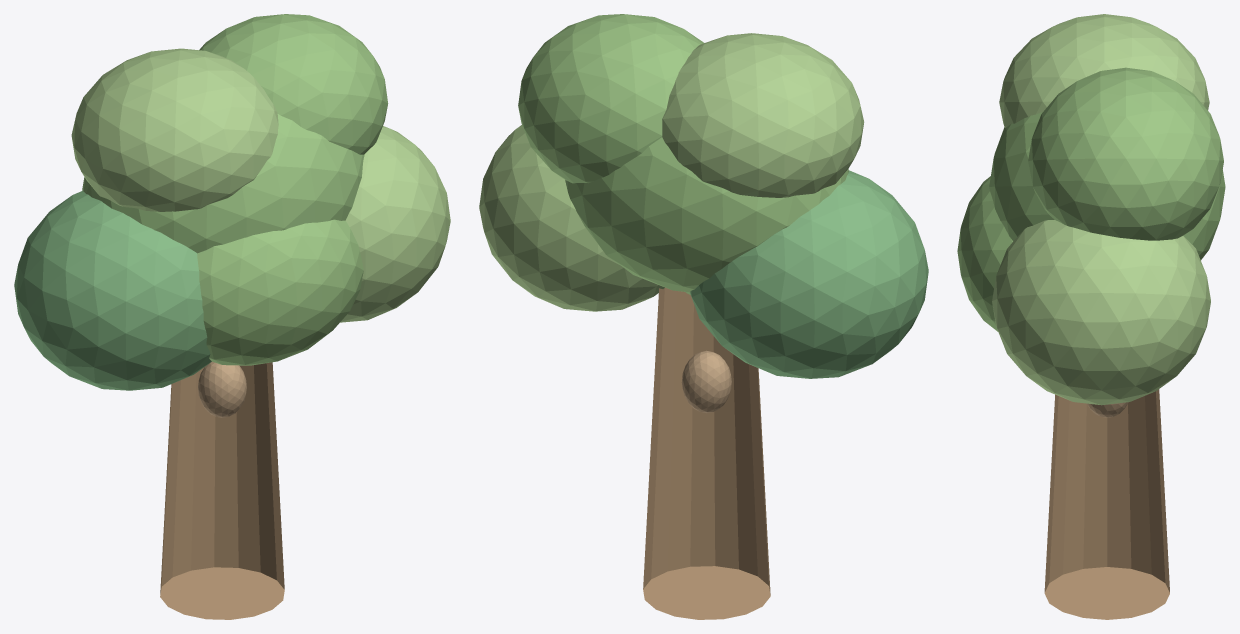
Rendered from tree_round_large.glb.
3 renders of one model, left to right at view 1: azimuth 30°, elevation 25°; view 2: azimuth 150°, elevation 25°; view 3: azimuth 270°, elevation 25°, orthographic. The views are drawn at different scales.
Visible parts, largest first — view 1: tree_round_large_02_crown, tree_round_large_05_crown, tree_round_large_00_trunk, tree_round_large_07_crown, tree_round_large_06_crown, tree_round_large_04_crown, tree_round_large_03_crown, tree_round_large_01_knot; view 2: tree_round_large_02_crown, tree_round_large_00_trunk, tree_round_large_05_crown, tree_round_large_06_crown, tree_round_large_03_crown, tree_round_large_04_crown, tree_round_large_01_knot; view 3: tree_round_large_04_crown, tree_round_large_06_crown, tree_round_large_00_trunk, tree_round_large_05_crown, tree_round_large_03_crown, tree_round_large_07_crown, tree_round_large_01_knot.
Boxes of the visible parts, <box> form: tree_round_large_02_crown: <box>14,191,211,390</box>; tree_round_large_05_crown: <box>71,48,278,211</box>; tree_round_large_00_trunk: <box>160,362,284,619</box>; tree_round_large_07_crown: <box>197,219,363,365</box>; tree_round_large_06_crown: <box>199,14,388,154</box>; tree_round_large_04_crown: <box>340,126,450,322</box>; tree_round_large_03_crown: <box>82,114,364,253</box>; tree_round_large_01_knot: <box>198,361,246,417</box>; tree_round_large_02_crown: <box>690,170,928,378</box>; tree_round_large_00_trunk: <box>643,287,770,619</box>; tree_round_large_05_crown: <box>662,33,864,197</box>; tree_round_large_06_crown: <box>518,14,703,183</box>; tree_round_large_03_crown: <box>565,137,848,292</box>; tree_round_large_04_crown: <box>479,125,664,311</box>; tree_round_large_01_knot: <box>681,350,731,413</box>; tree_round_large_04_crown: <box>992,220,1210,405</box>; tree_round_large_06_crown: <box>1028,67,1223,240</box>; tree_round_large_00_trunk: <box>1044,389,1169,619</box>; tree_round_large_05_crown: <box>999,14,1209,127</box>; tree_round_large_03_crown: <box>989,112,1225,260</box>; tree_round_large_07_crown: <box>957,176,1012,331</box>; tree_round_large_01_knot: <box>1087,402,1128,417</box>.
Size of the model in its own units: 3.28 by 4.18 by 1.86.
